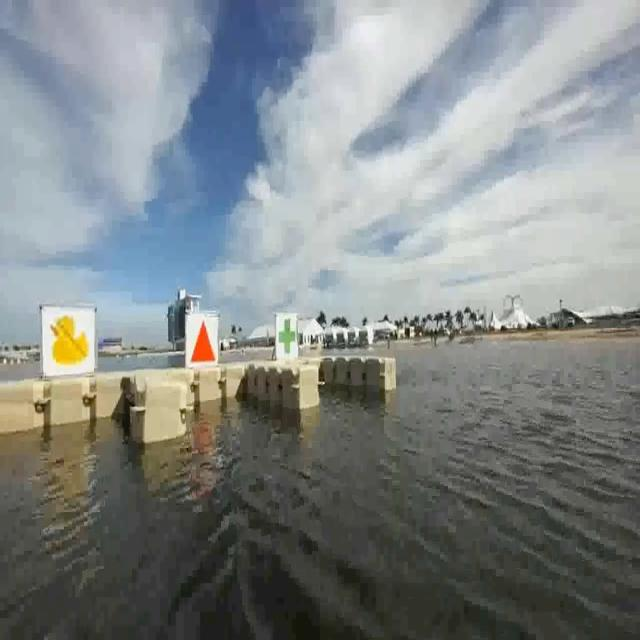blue-cross: (275, 316, 298, 360)
red-dot: (187, 314, 216, 368)
yellow-duck: (50, 312, 90, 367)
